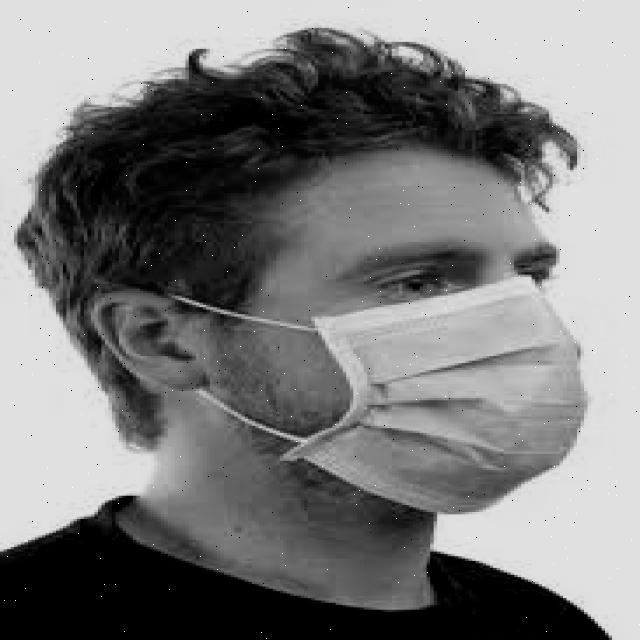fake: (280, 272, 591, 517)
real: (255, 145, 561, 521)
